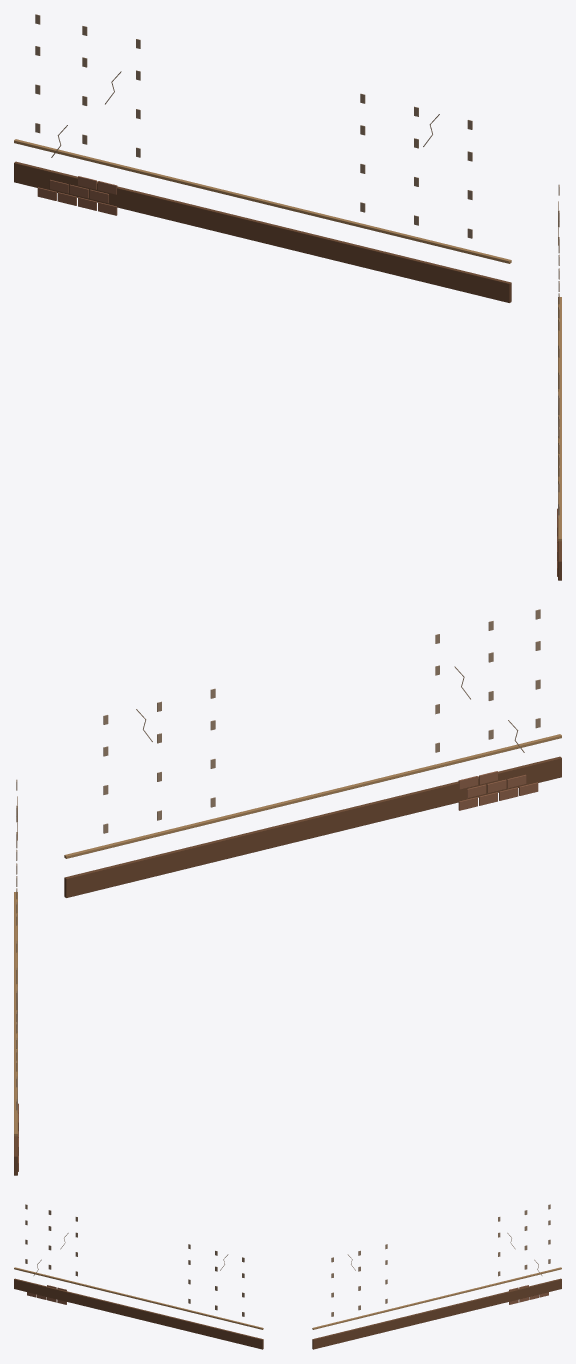
Rendered from SM_CP_CrimeRoomDetails.fbx.
3 views of the same model, one above another, from view 1: azimuth 30°, elevation 25°; view 2: azimuth 150°, elevation 25°; view 3: azimuth 270°, elevation 25° (orthographic). The views are drawn at different scales.
Parts seen in each view (by area): view 1: SM_CP_CrimeRoomDetails; view 2: SM_CP_CrimeRoomDetails; view 3: SM_CP_CrimeRoomDetails.
Part boxes in pixels (x1,y1,x2,y2): SM_CP_CrimeRoomDetails: (14,14,561,580); SM_CP_CrimeRoomDetails: (14,609,561,1175); SM_CP_CrimeRoomDetails: (14,1204,561,1349).
Bounding box in the file's own units: 374 × 1411 × 258.
